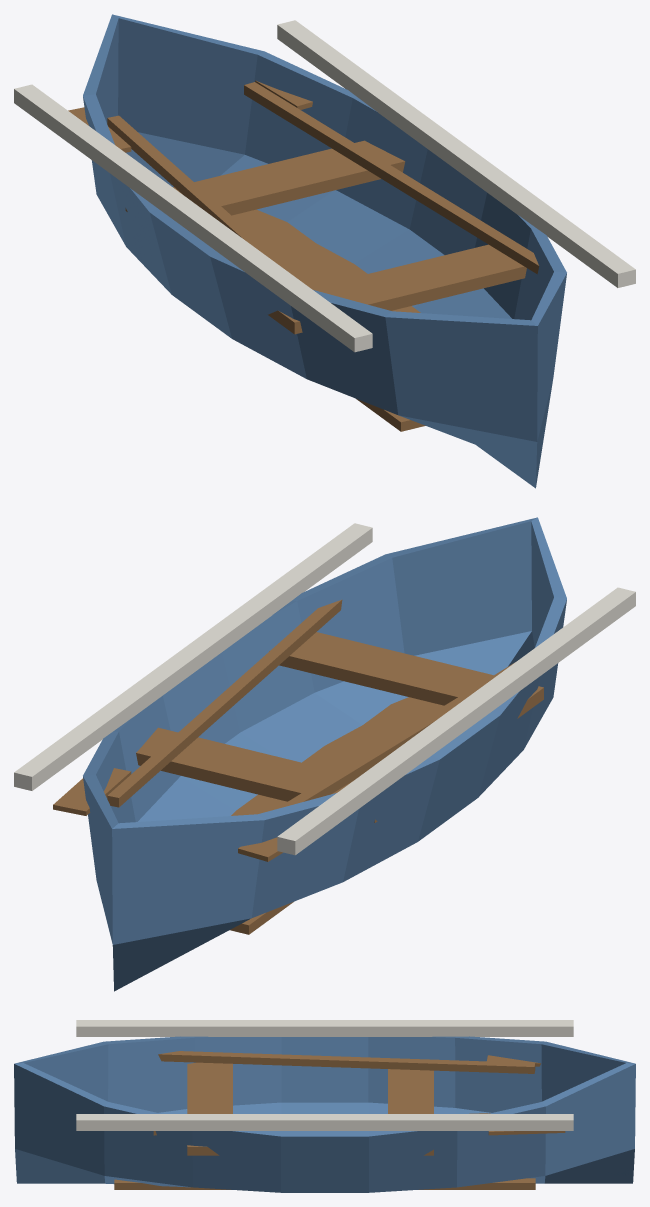
File: rowboat.glb
3 views of the same model, one above another, from view 1: azimuth 30°, elevation 25°; view 2: azimuth 150°, elevation 25°; view 3: azimuth 270°, elevation 25° (orthographic). The views are drawn at different scales.
Visible parts, largest first — view 1: rowboat; view 2: rowboat; view 3: rowboat.
Boxes of the visible parts, x1,y1,x2,y2 form: rowboat: (14, 14, 635, 488); rowboat: (14, 517, 635, 991); rowboat: (14, 1020, 635, 1192).
Size of the model in its own units: 1.28 by 0.697 by 3.25.
